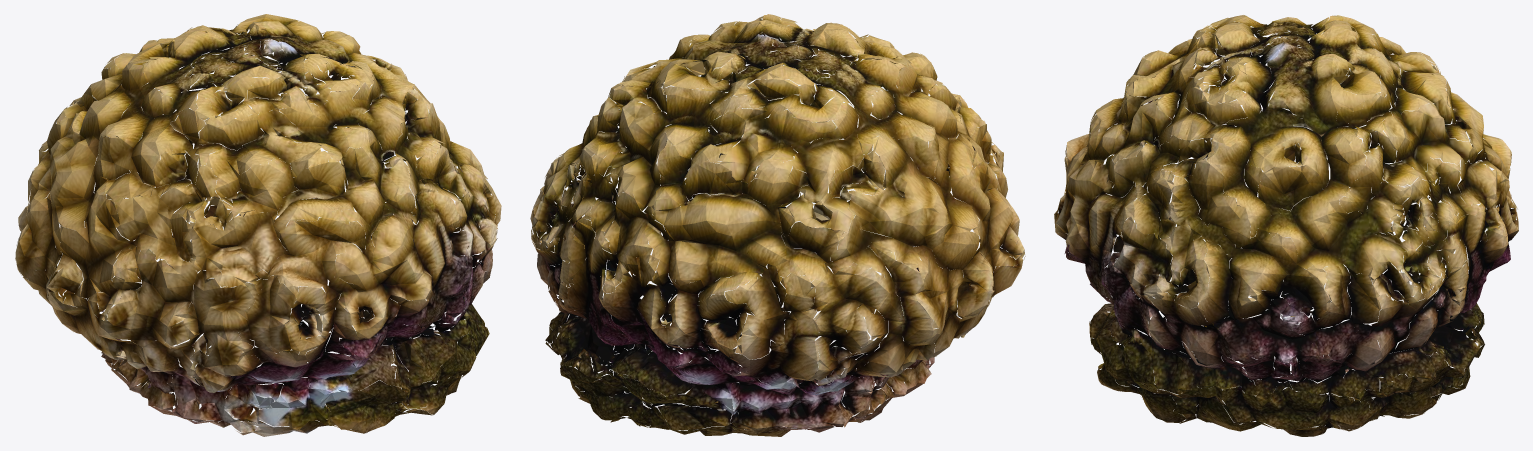
Rendered from siderastrea-radians.glb.
3 renders of one model, left to right at view 1: azimuth 30°, elevation 25°; view 2: azimuth 150°, elevation 25°; view 3: azimuth 270°, elevation 25°, orthographic. The views are drawn at different scales.
Parts seen in each view (by area): view 1: geometry_0; view 2: geometry_0; view 3: geometry_0.
Part boxes in pixels (x1,y1,x2,y2): geometry_0: [15, 14, 501, 436]; geometry_0: [530, 14, 1025, 436]; geometry_0: [1054, 15, 1518, 436].
Size of the model in its own units: 1.99 by 1.52 by 1.95.
Materials: 1 (1 with a texture image).
